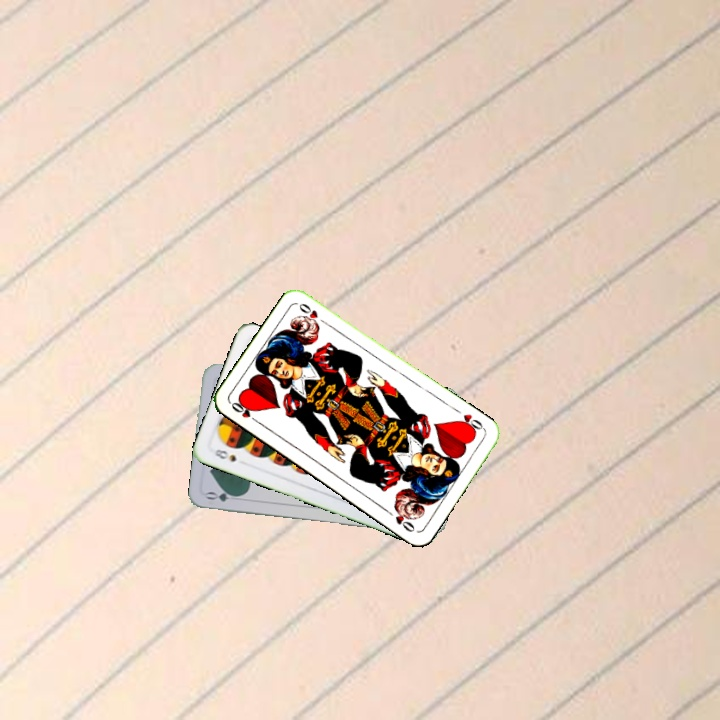GO: (203, 487, 244, 504)
HO: (227, 397, 263, 427), (453, 410, 487, 436)
S8: (210, 445, 239, 464)
